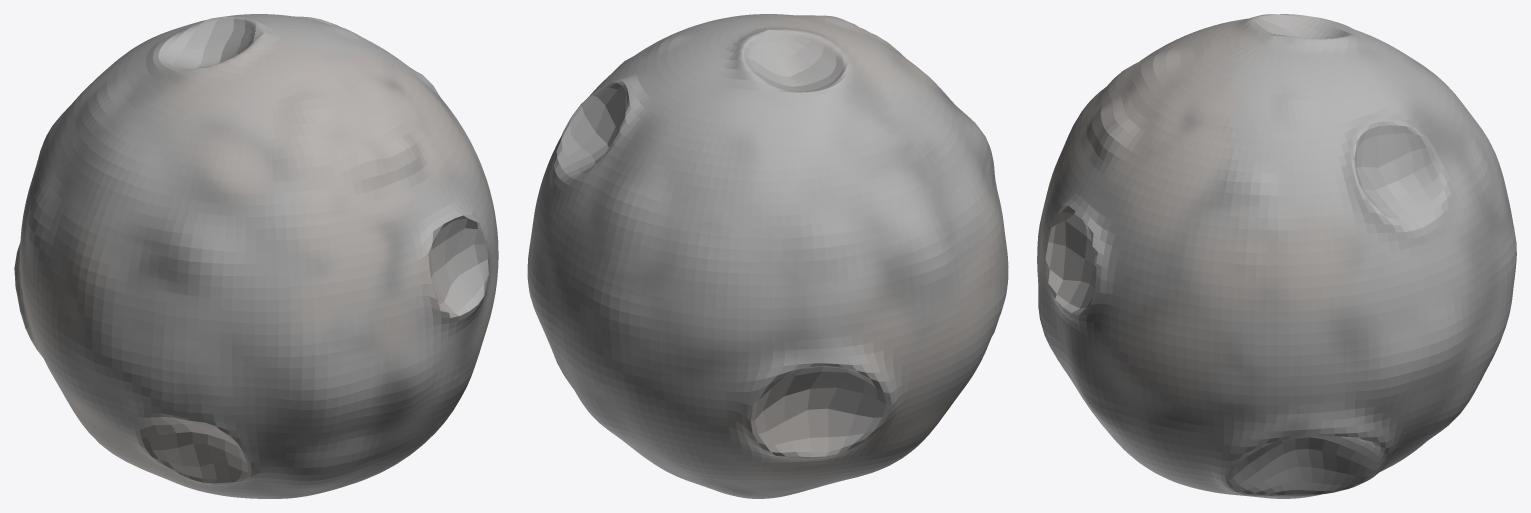
The model's file is luna.gltf.
3 views of the same model, side by side, from view 1: azimuth 30°, elevation 25°; view 2: azimuth 150°, elevation 25°; view 3: azimuth 270°, elevation 25° (orthographic).
Visible parts, largest first — view 1: luna; view 2: luna; view 3: luna.
Boxes of the visible parts, x1,y1,x2,y2 form: luna: (14, 14, 498, 498); luna: (527, 14, 1008, 498); luna: (1037, 14, 1516, 498).
Size of the model in its own units: 1.98 by 2.06 by 1.99.
Materials: 1 (1 with a texture image).
